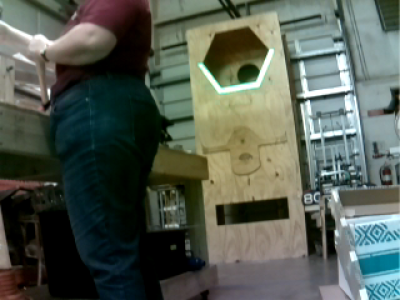target: (198, 48, 275, 94)
